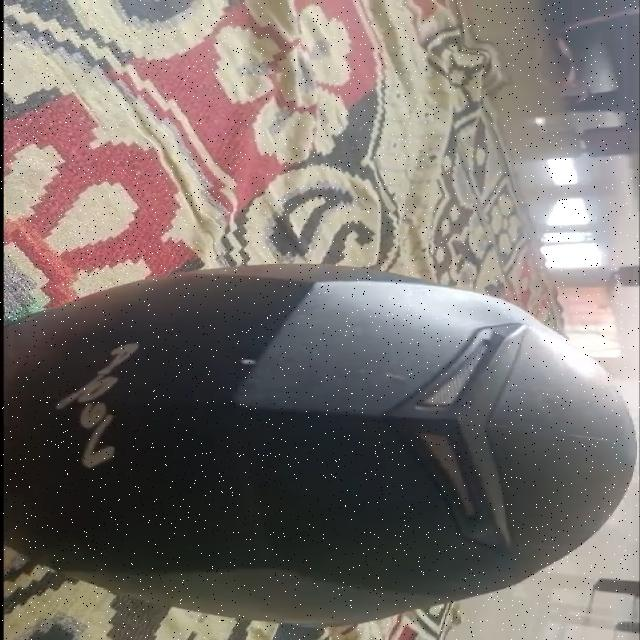Helmet: (4, 263, 635, 628)
